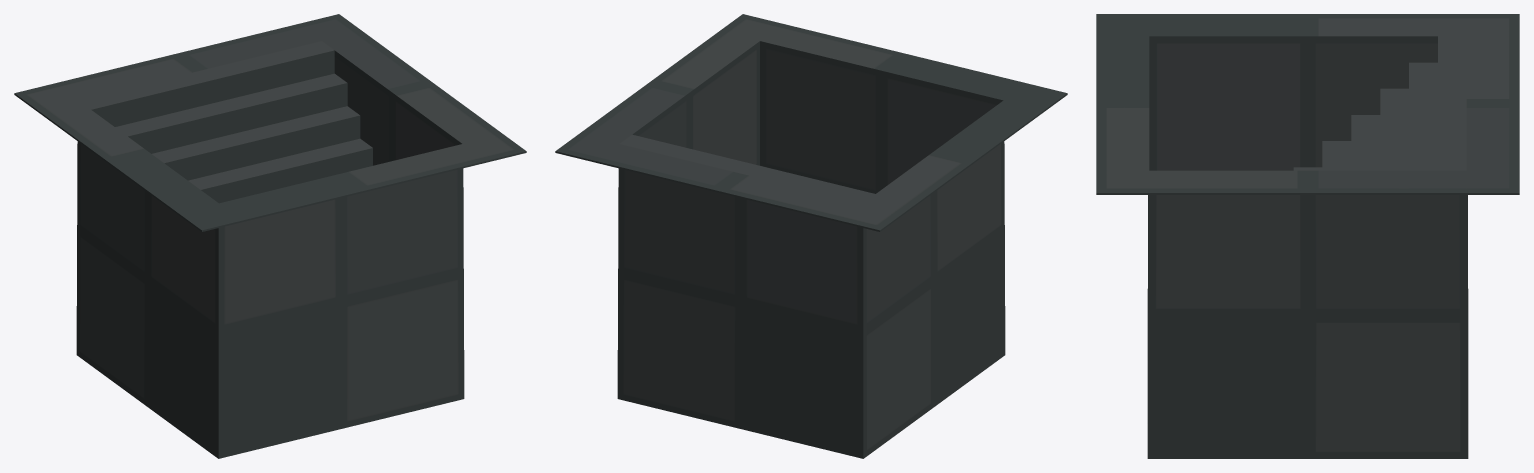
Rendered from Stairs_Down_2x2.fbx.
3 views of the same model, side by side, from view 1: azimuth 30°, elevation 25°; view 2: azimuth 150°, elevation 25°; view 3: azimuth 270°, elevation 25° (orthographic). The views are drawn at different scales.
Parts seen in each view (by area): view 1: Stairs Down 2x2; view 2: Stairs Down 2x2; view 3: Stairs Down 2x2.
Boxes of the visible parts, bbox=[...] form: Stairs Down 2x2: bbox=[14, 14, 526, 458]; Stairs Down 2x2: bbox=[555, 14, 1067, 458]; Stairs Down 2x2: bbox=[1096, 14, 1519, 458].
Bounding box in the file's own units: 200 × 150 × 200.
